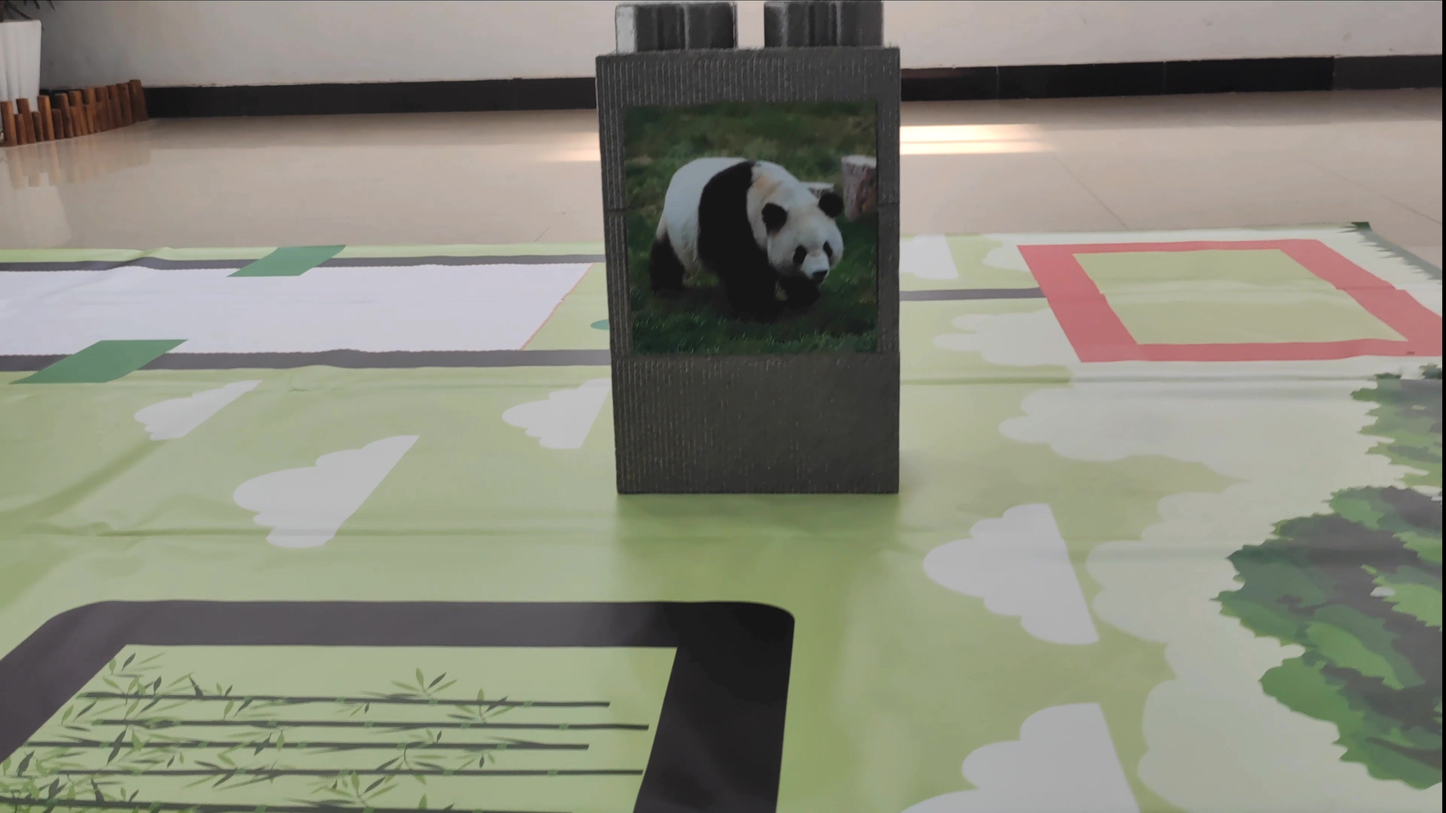panda: (629, 137, 873, 328)
